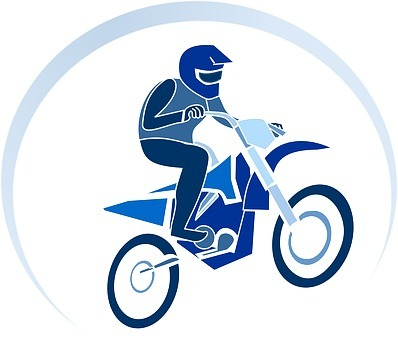motorbike: (98, 106, 354, 330)
person: (135, 42, 289, 242)
